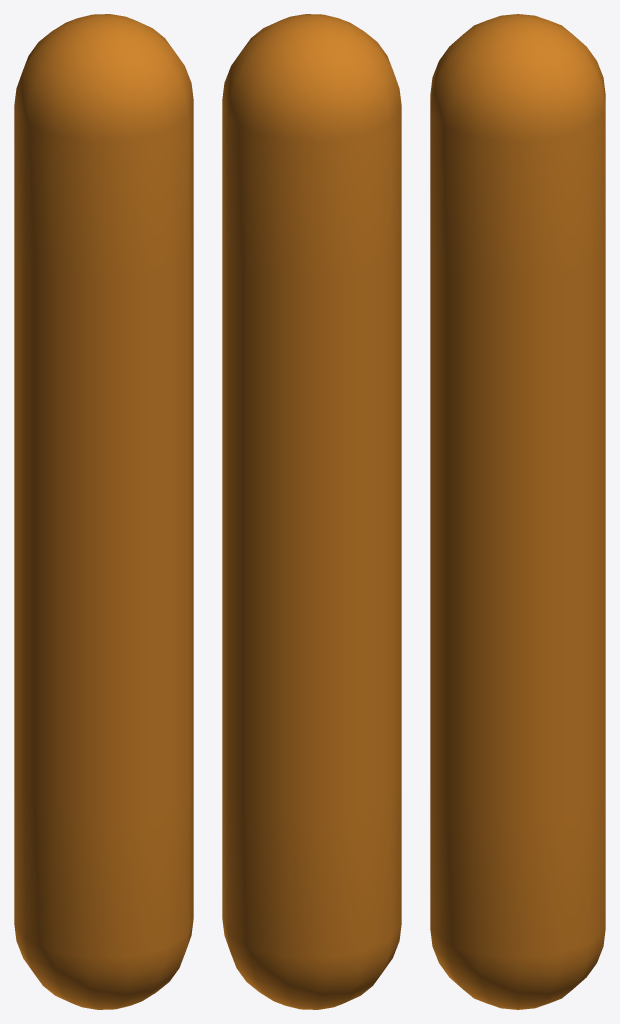
The picture shows the model from 3 angles, left to right: view 1: azimuth 30°, elevation 25°; view 2: azimuth 150°, elevation 25°; view 3: azimuth 270°, elevation 25°; orthographic projection.
Size of the model in its own units: 0.1667 by 1 by 0.1625.
